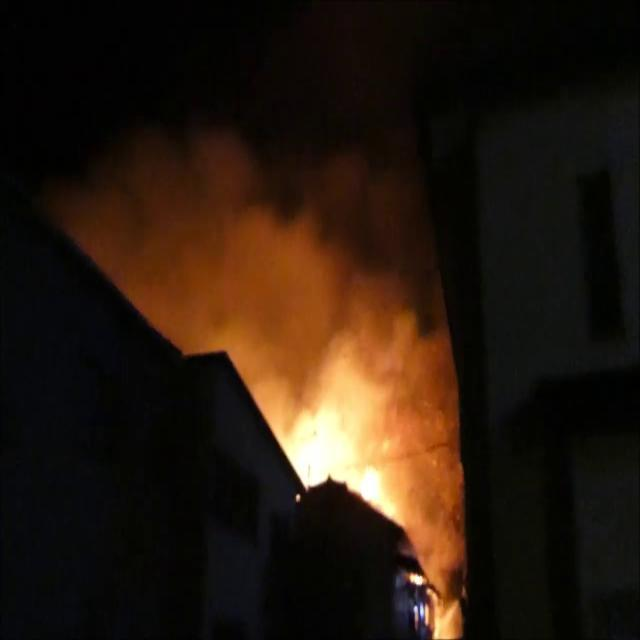Fire: (284, 372, 406, 528)
Smoke: (19, 103, 453, 413)
